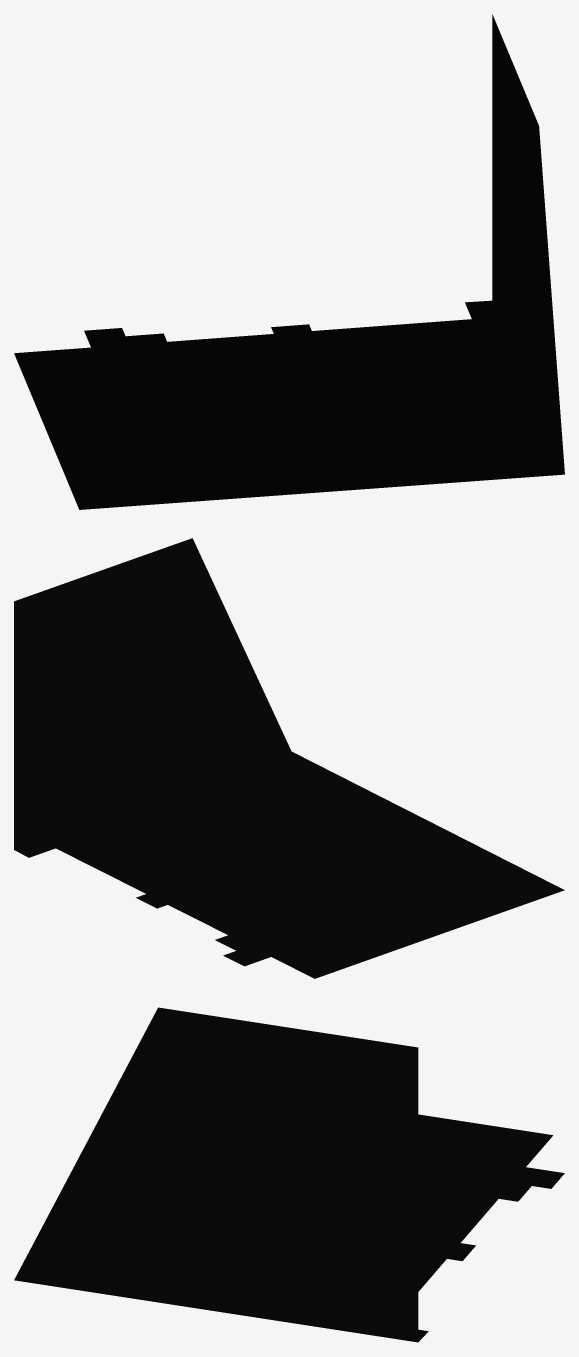
3 views of the same model, one above another, from view 1: azimuth 30°, elevation 25°; view 2: azimuth 150°, elevation 25°; view 3: azimuth 270°, elevation 25° (orthographic). The views are drawn at different scales.
Parts seen in each view (by area): view 1: Joint_0_Object_0; view 2: Joint_0_Object_0; view 3: Joint_0_Object_0.
Boxes of the visible parts, x1=… form: Joint_0_Object_0: x1=14, y1=14, x2=564, y2=509; Joint_0_Object_0: x1=14, y1=538, x2=564, y2=978; Joint_0_Object_0: x1=14, y1=1007, x2=564, y2=1342.
Size of the model in its own units: 817 by 427 by 723.
1 material, 1 textured.
